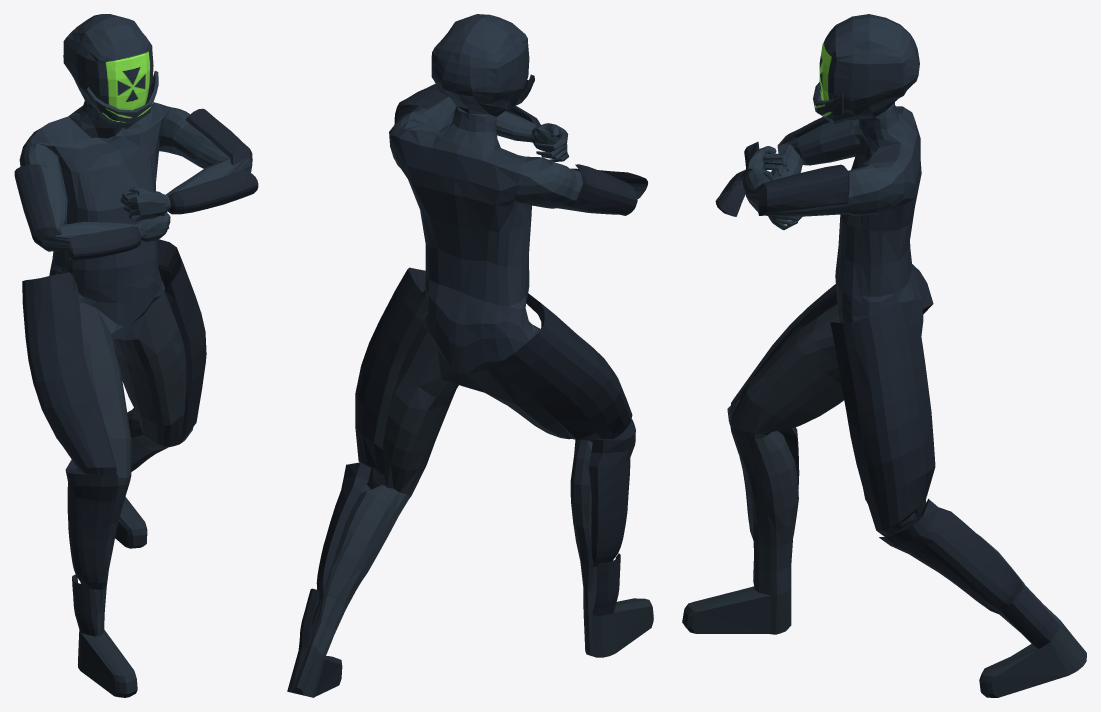
File: Bastion_WB_000025.obj
3 views of the same model, side by side, from view 1: azimuth 30°, elevation 25°; view 2: azimuth 150°, elevation 25°; view 3: azimuth 270°, elevation 25° (orthographic). The views are drawn at different scales.
Visible parts, largest first — view 1: Cube.002; view 2: Cube.002; view 3: Cube.002.
Part boxes in pixels (bbox=[...]): Cube.002: bbox=[14, 14, 258, 697]; Cube.002: bbox=[287, 14, 653, 697]; Cube.002: bbox=[682, 14, 1086, 697].
Bounding box in the file's own units: 1.35 × 3.6 × 2.05.
